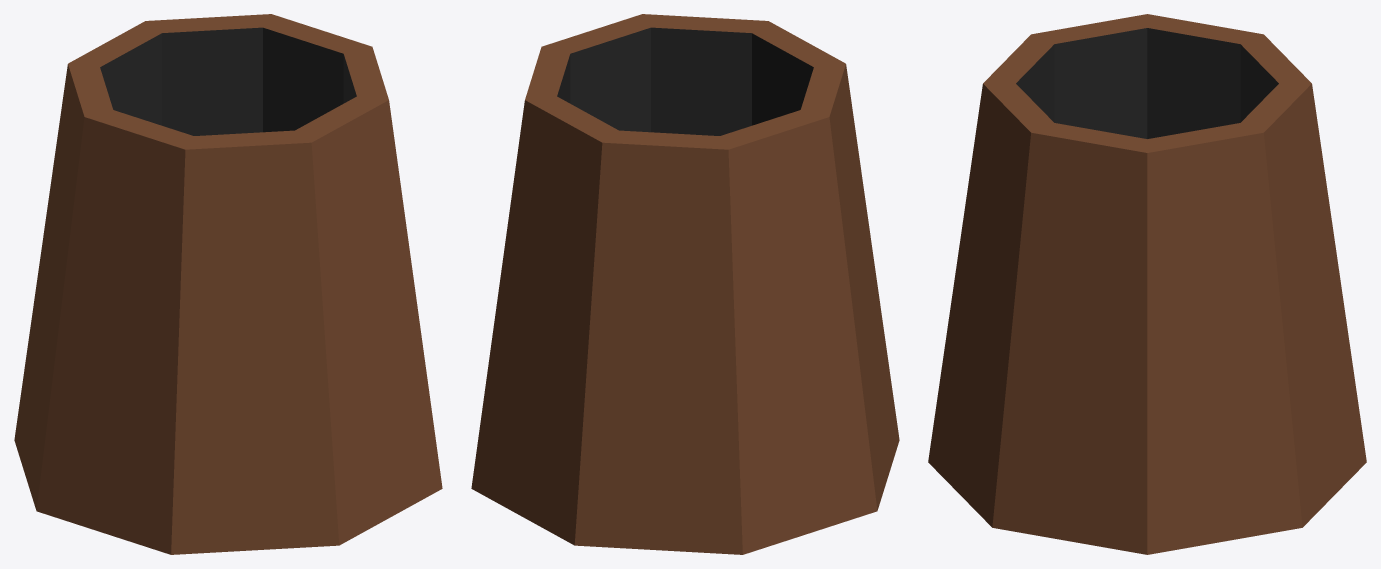
File: Bin2.obj
3 renders of one model, left to right at view 1: azimuth 30°, elevation 25°; view 2: azimuth 150°, elevation 25°; view 3: azimuth 270°, elevation 25°, orthographic.
Visible parts, largest first — view 1: Kosz.001; view 2: Kosz.001; view 3: Kosz.001.
Part boxes in pixels (x1,y1,x2,y2): Kosz.001: (14, 14, 442, 554); Kosz.001: (471, 14, 899, 554); Kosz.001: (928, 14, 1366, 554).
Bounding box in the file's own units: 1.34 × 1.28 × 1.34.
